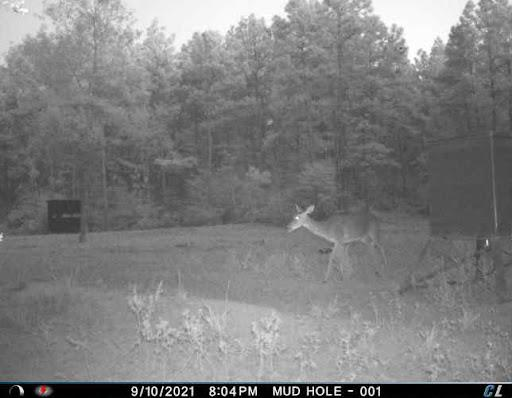Deer: (283, 198, 381, 290)
